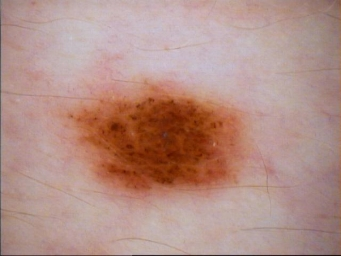nevus: (70, 99, 240, 191)
